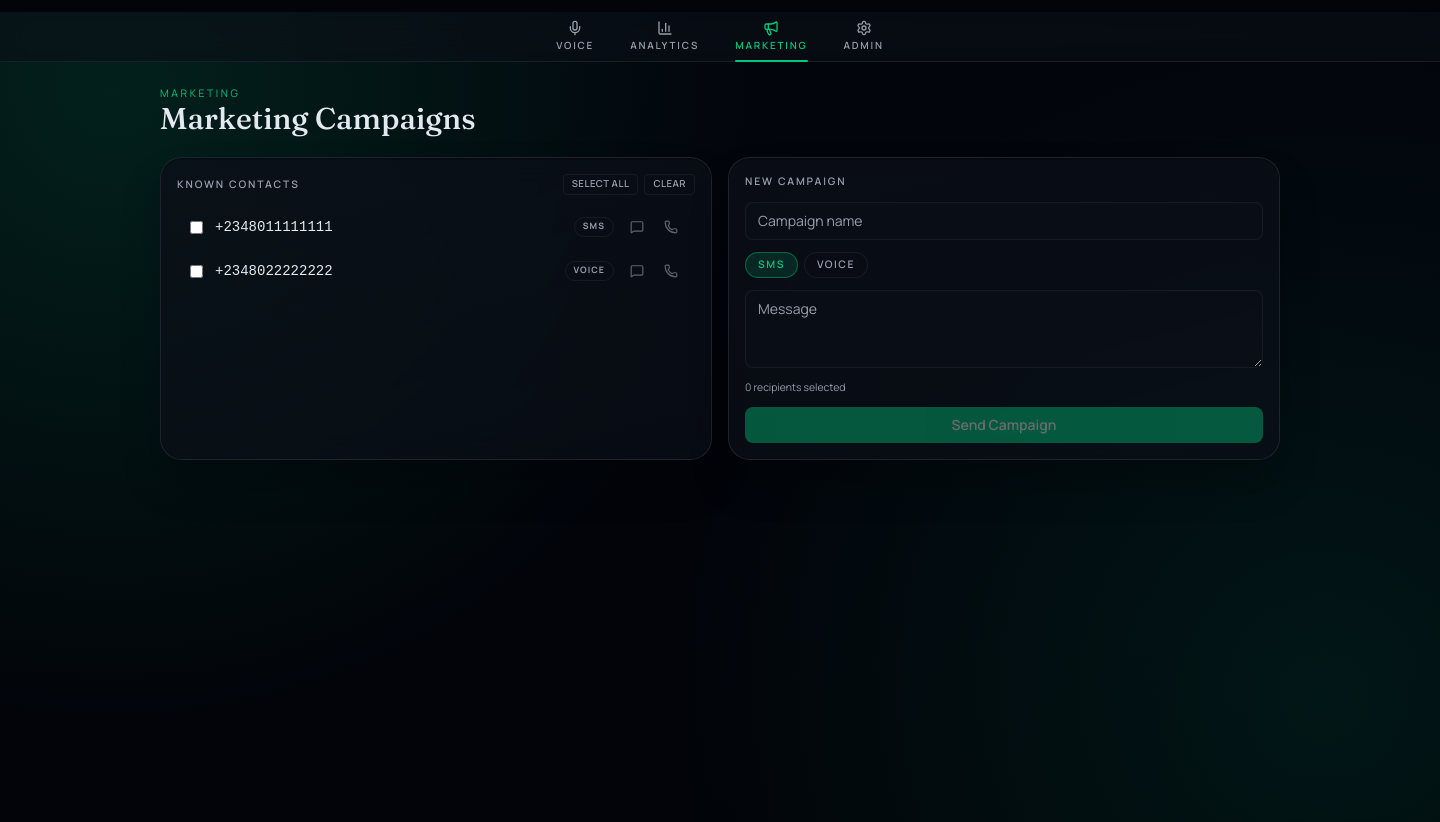
it: MarketingDashboard › toggling a contact checkbox selects it
Expected: the text "+2348011111111" is shown, [215, 219, 333, 235]
Click the checkbox next to "+2348011111111" at (196, 227), box [190, 220, 203, 233]
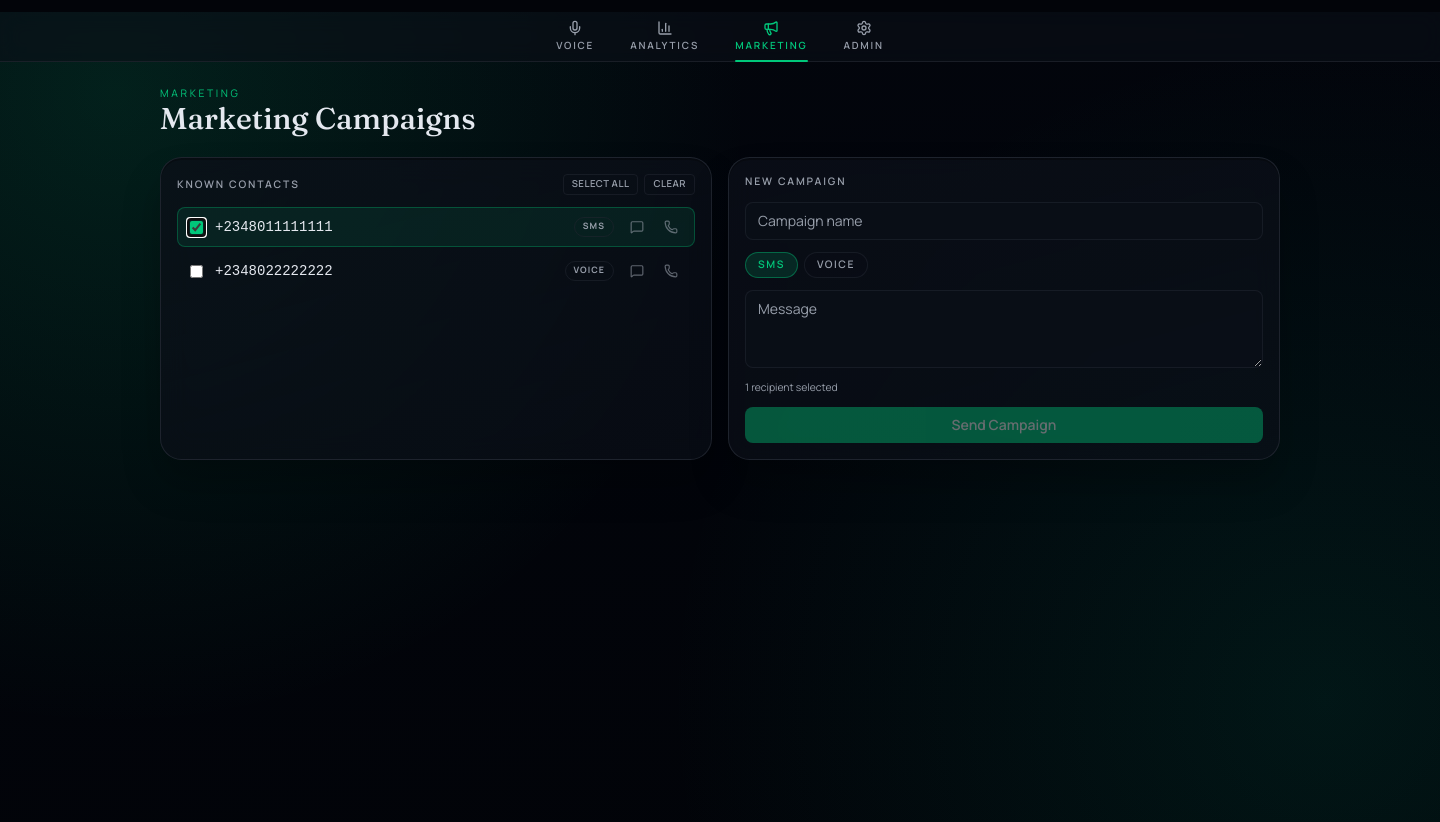
Result: the text "1 recipient selected" is shown at [745, 380, 838, 394]
